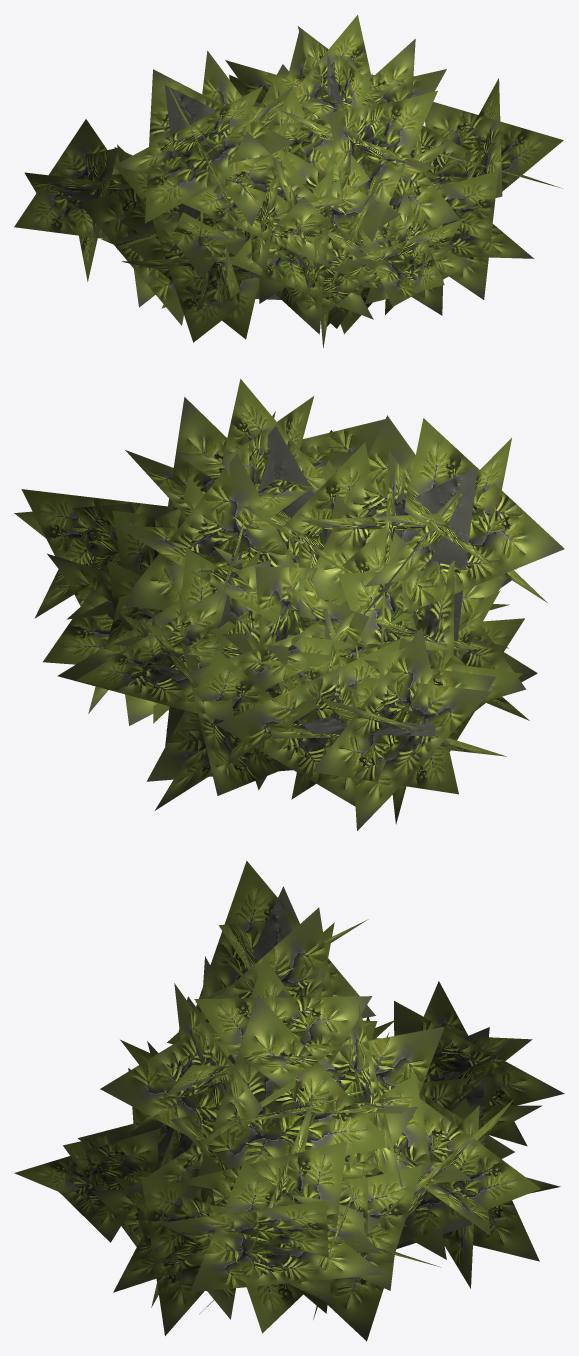
The model's file is BushMed03.FBX.
3 views of the same model, one above another, from view 1: azimuth 30°, elevation 25°; view 2: azimuth 150°, elevation 25°; view 3: azimuth 270°, elevation 25° (orthographic). The views are drawn at different scales.
Parts seen in each view (by area): view 1: Bush_LOD0; view 2: Bush_LOD0; view 3: Bush_LOD0.
Part boxes in pixels (x1,y1,x2,y2): Bush_LOD0: (14, 15, 563, 347); Bush_LOD0: (14, 378, 564, 830); Bush_LOD0: (14, 861, 564, 1341).
Size of what is drawn, in the model's own units: 392 by 231 by 329.
